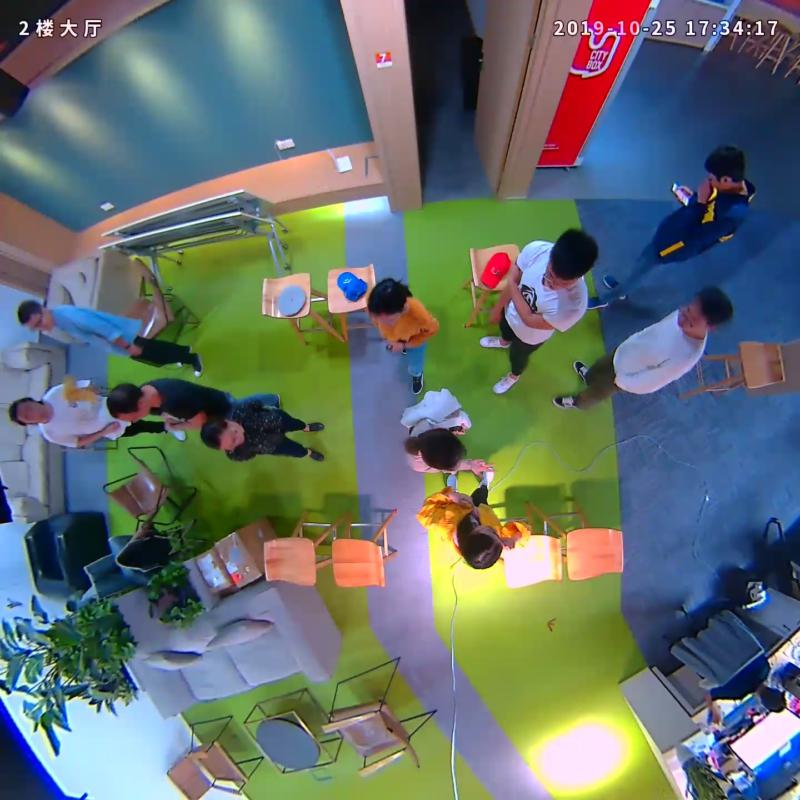head: (545, 228, 599, 291), (677, 285, 733, 332), (420, 427, 466, 472), (367, 277, 407, 328), (704, 144, 747, 191), (460, 525, 503, 570), (106, 382, 150, 421), (199, 417, 246, 451), (16, 299, 54, 332), (9, 396, 48, 426)
